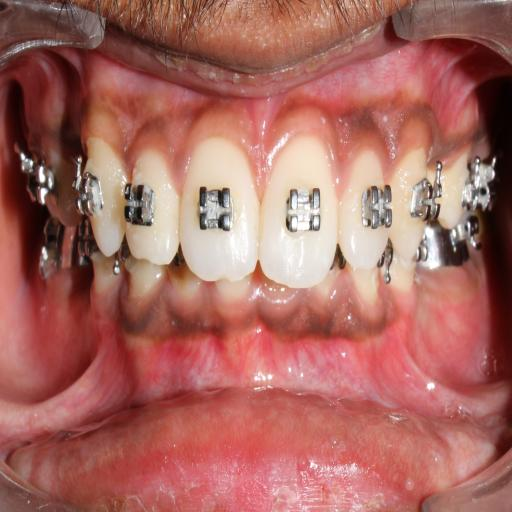correct_brace: (196, 179, 242, 241), (284, 178, 328, 237), (125, 173, 160, 232)
incorrect_brace: (122, 152, 180, 265), (340, 147, 391, 268), (356, 181, 394, 229)
